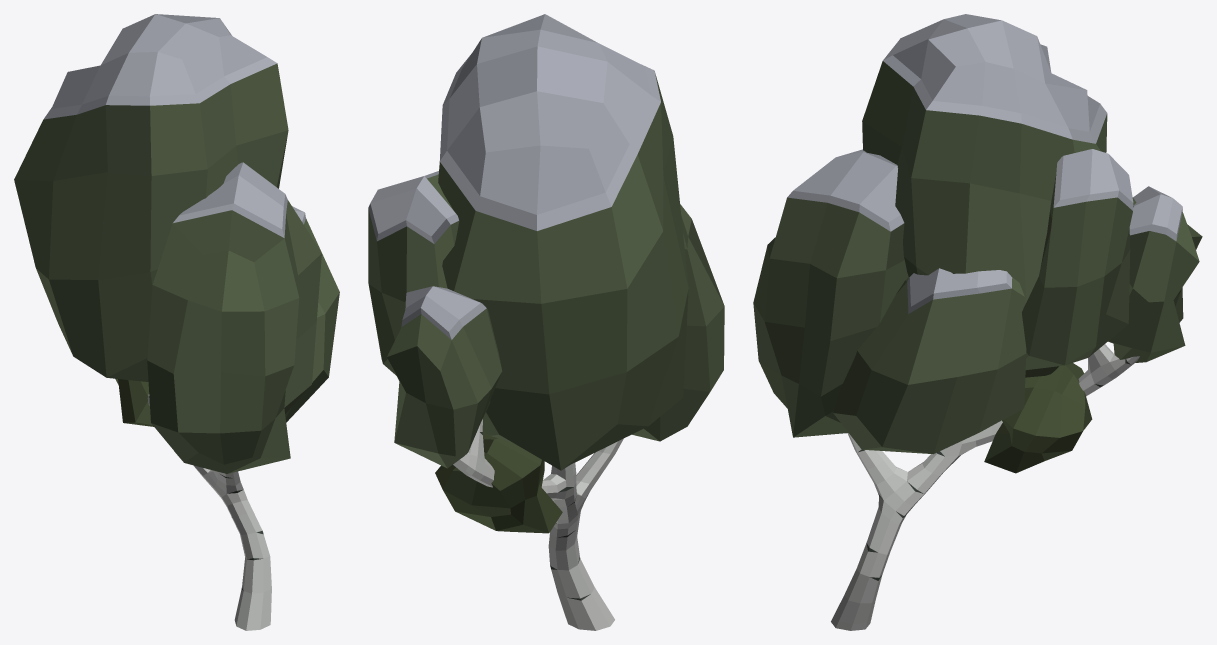
The model's file is BirchTree_Snow_1.glb.
The picture shows the model from 3 angles, left to right: view 1: azimuth 30°, elevation 25°; view 2: azimuth 150°, elevation 25°; view 3: azimuth 270°, elevation 25°; orthographic projection. The views are drawn at different scales.
Visible parts, largest first — view 1: BirchTree_Snow_1_Cube.135; view 2: BirchTree_Snow_1_Cube.135; view 3: BirchTree_Snow_1_Cube.135.
Boxes of the visible parts, <box> form: BirchTree_Snow_1_Cube.135: <box>14,14,339,630</box>; BirchTree_Snow_1_Cube.135: <box>368,14,724,630</box>; BirchTree_Snow_1_Cube.135: <box>753,14,1202,630</box>.
Size of the model in its own units: 1.7 by 3.59 by 2.48.
1 material, 1 textured.
